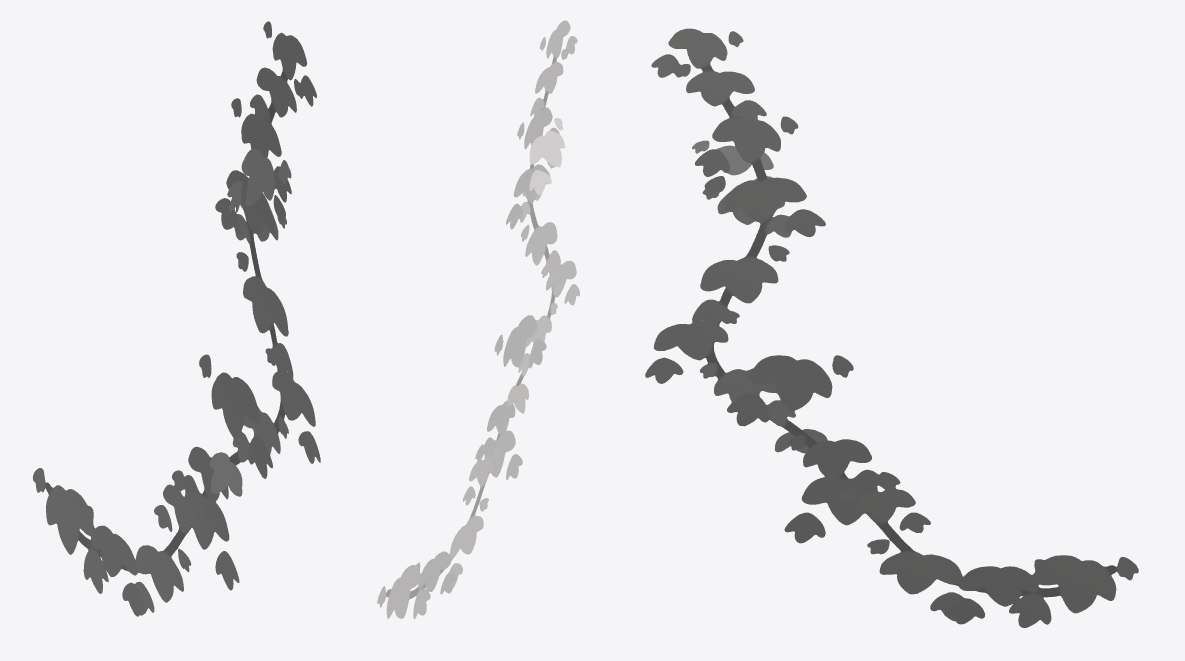
The model's file is VinePiece1.fbx.
3 renders of one model, left to right at view 1: azimuth 30°, elevation 25°; view 2: azimuth 150°, elevation 25°; view 3: azimuth 270°, elevation 25°, orthographic. The views are drawn at different scales.
Parts seen in each view (by area): view 1: Plane.757; view 2: Plane.757; view 3: Plane.757.
Part boxes in pixels (left/top/right/bottom): Plane.757: left=32, top=21, right=320, bottom=616; Plane.757: left=377, top=20, right=579, bottom=619; Plane.757: left=645, top=28, right=1138, bottom=627.
Size of the model in its own units: 21.11 by 381 by 301.
